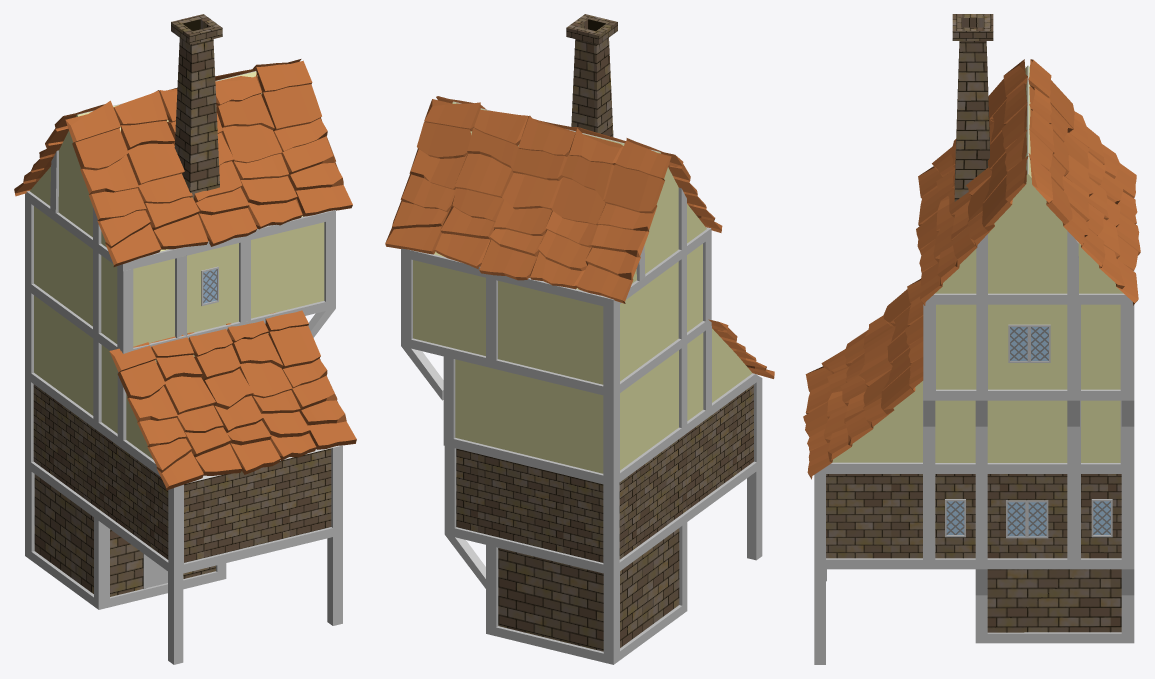
File: BlackSmith_V2.fbx
3 renders of one model, left to right at view 1: azimuth 30°, elevation 25°; view 2: azimuth 150°, elevation 25°; view 3: azimuth 270°, elevation 25°, orthographic. The views are drawn at different scales.
Parts seen in each view (by area): view 1: TownBuilding_Blacksmith; view 2: TownBuilding_Blacksmith; view 3: TownBuilding_Blacksmith.
Part boxes in pixels (x1=…): TownBuilding_Blacksmith: x1=14, y1=14, x2=356, y2=664; TownBuilding_Blacksmith: x1=385, y1=14, x2=774, y2=664; TownBuilding_Blacksmith: x1=803, y1=14, x2=1140, y2=664.
Size of the model in its own units: 7.06 by 8 by 15.8.
